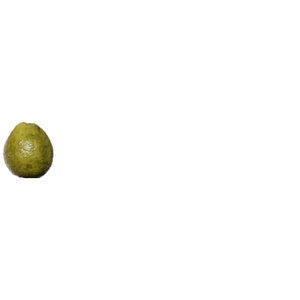goiaba: (4, 119, 54, 182)
